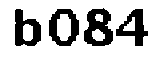0: (46, 4, 81, 50)
4: (114, 5, 153, 49)
8: (82, 5, 114, 47)
b: (9, 7, 43, 51)
